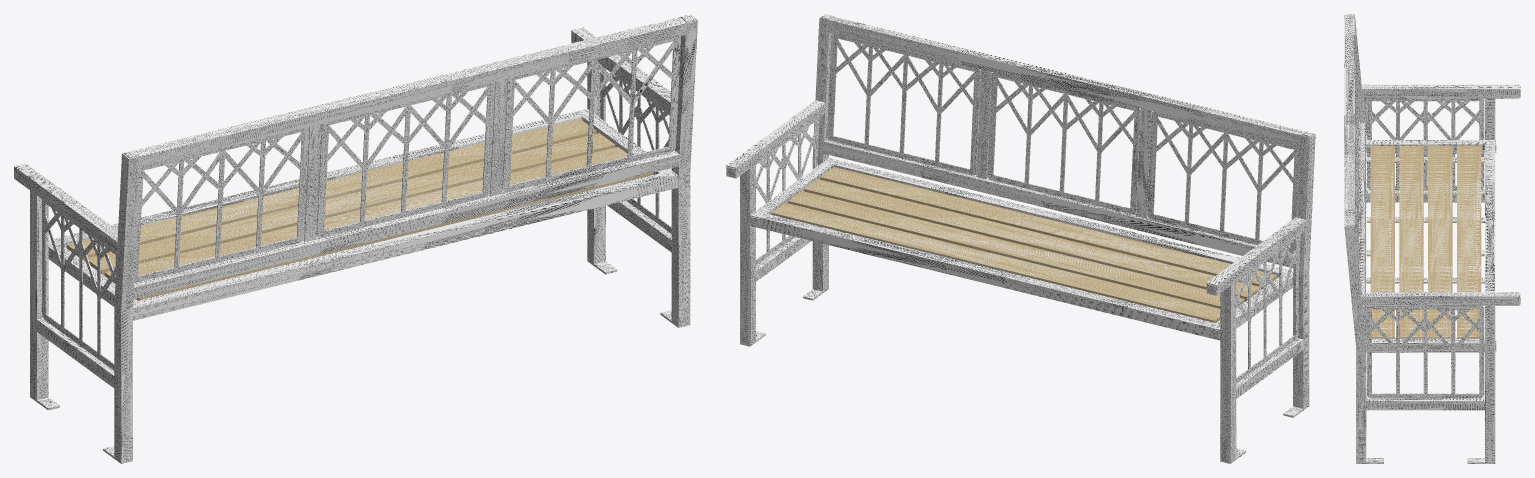
3 renders of one model, left to right at view 1: azimuth 30°, elevation 25°; view 2: azimuth 150°, elevation 25°; view 3: azimuth 270°, elevation 25°, orthographic. The views are drawn at different scales.
Visible parts, largest first — view 1: mesh41_mesh41-geometry, mesh6_mesh6-geometry, mesh42_mesh42-geometry, mesh12_mesh12-geometry, mesh43_mesh43-geometry, mesh18_mesh18-geometry, mesh20_mesh20-geometry, mesh4_mesh4-geometry, mesh21_mesh21-geometry, mesh2_mesh2-geometry, mesh1_mesh1-geometry, mesh5_mesh5-geometry (+4 smaller); view 2: mesh41_mesh41-geometry, mesh6_mesh6-geometry, mesh42_mesh42-geometry, mesh12_mesh12-geometry, mesh2_mesh2-geometry, mesh4_mesh4-geometry, mesh1_mesh1-geometry, mesh3_mesh3-geometry, mesh43_mesh43-geometry, mesh18_mesh18-geometry, mesh20_mesh20-geometry, mesh21_mesh21-geometry (+4 smaller); view 3: mesh12_mesh12-geometry, mesh11_mesh11-geometry, mesh41_mesh41-geometry, mesh4_mesh4-geometry, mesh1_mesh1-geometry, mesh3_mesh3-geometry, mesh2_mesh2-geometry, mesh6_mesh6-geometry, mesh5_mesh5-geometry, mesh42_mesh42-geometry, mesh43_mesh43-geometry, mesh21_mesh21-geometry (+1 smaller).
Part boxes in pixels (<box>): mesh41_mesh41-geometry: <box>48,109,678,320</box>; mesh6_mesh6-geometry: <box>14,150,140,463</box>; mesh42_mesh42-geometry: <box>134,17,685,167</box>; mesh12_mesh12-geometry: <box>571,14,697,327</box>; mesh43_mesh43-geometry: <box>133,150,679,299</box>; mesh18_mesh18-geometry: <box>502,36,680,192</box>; mesh20_mesh20-geometry: <box>316,81,495,237</box>; mesh4_mesh4-geometry: <box>85,133,615,275</box>; mesh21_mesh21-geometry: <box>134,127,309,283</box>; mesh2_mesh2-geometry: <box>67,119,596,261</box>; mesh1_mesh1-geometry: <box>104,147,627,283</box>; mesh5_mesh5-geometry: <box>42,199,116,370</box>; mesh41_mesh41-geometry: <box>750,158,1293,340</box>; mesh6_mesh6-geometry: <box>1206,131,1315,463</box>; mesh42_mesh42-geometry: <box>829,17,1304,146</box>; mesh12_mesh12-geometry: <box>726,14,834,346</box>; mesh2_mesh2-geometry: <box>771,202,1220,322</box>; mesh4_mesh4-geometry: <box>788,191,1244,308</box>; mesh1_mesh1-geometry: <box>804,179,1258,301</box>; mesh3_mesh3-geometry: <box>820,167,1276,289</box>; mesh43_mesh43-geometry: <box>823,139,1293,268</box>; mesh18_mesh18-geometry: <box>827,33,980,175</box>; mesh20_mesh20-geometry: <box>987,72,1140,214</box>; mesh21_mesh21-geometry: <box>1147,111,1298,253</box>; mesh12_mesh12-geometry: <box>1344,221,1520,463</box>; mesh11_mesh11-geometry: <box>1363,306,1484,398</box>; mesh41_mesh41-geometry: <box>1366,140,1496,352</box>; mesh4_mesh4-geometry: <box>1428,146,1452,338</box>; mesh1_mesh1-geometry: <box>1399,146,1423,338</box>; mesh3_mesh3-geometry: <box>1370,146,1394,338</box>; mesh2_mesh2-geometry: <box>1457,146,1481,338</box>; mesh6_mesh6-geometry: <box>1344,14,1520,256</box>; mesh5_mesh5-geometry: <box>1363,98,1484,190</box>; mesh42_mesh42-geometry: <box>1344,18,1355,228</box>; mesh43_mesh43-geometry: <box>1355,122,1365,334</box>; mesh21_mesh21-geometry: <box>1355,73,1360,183</box>.
Size of the model in its own units: 0.8456 by 0.4435 by 0.2969.
